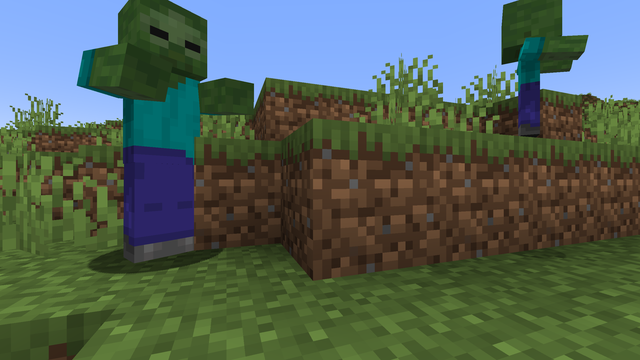zombies: (104, 3, 204, 268), (499, 11, 559, 139)
